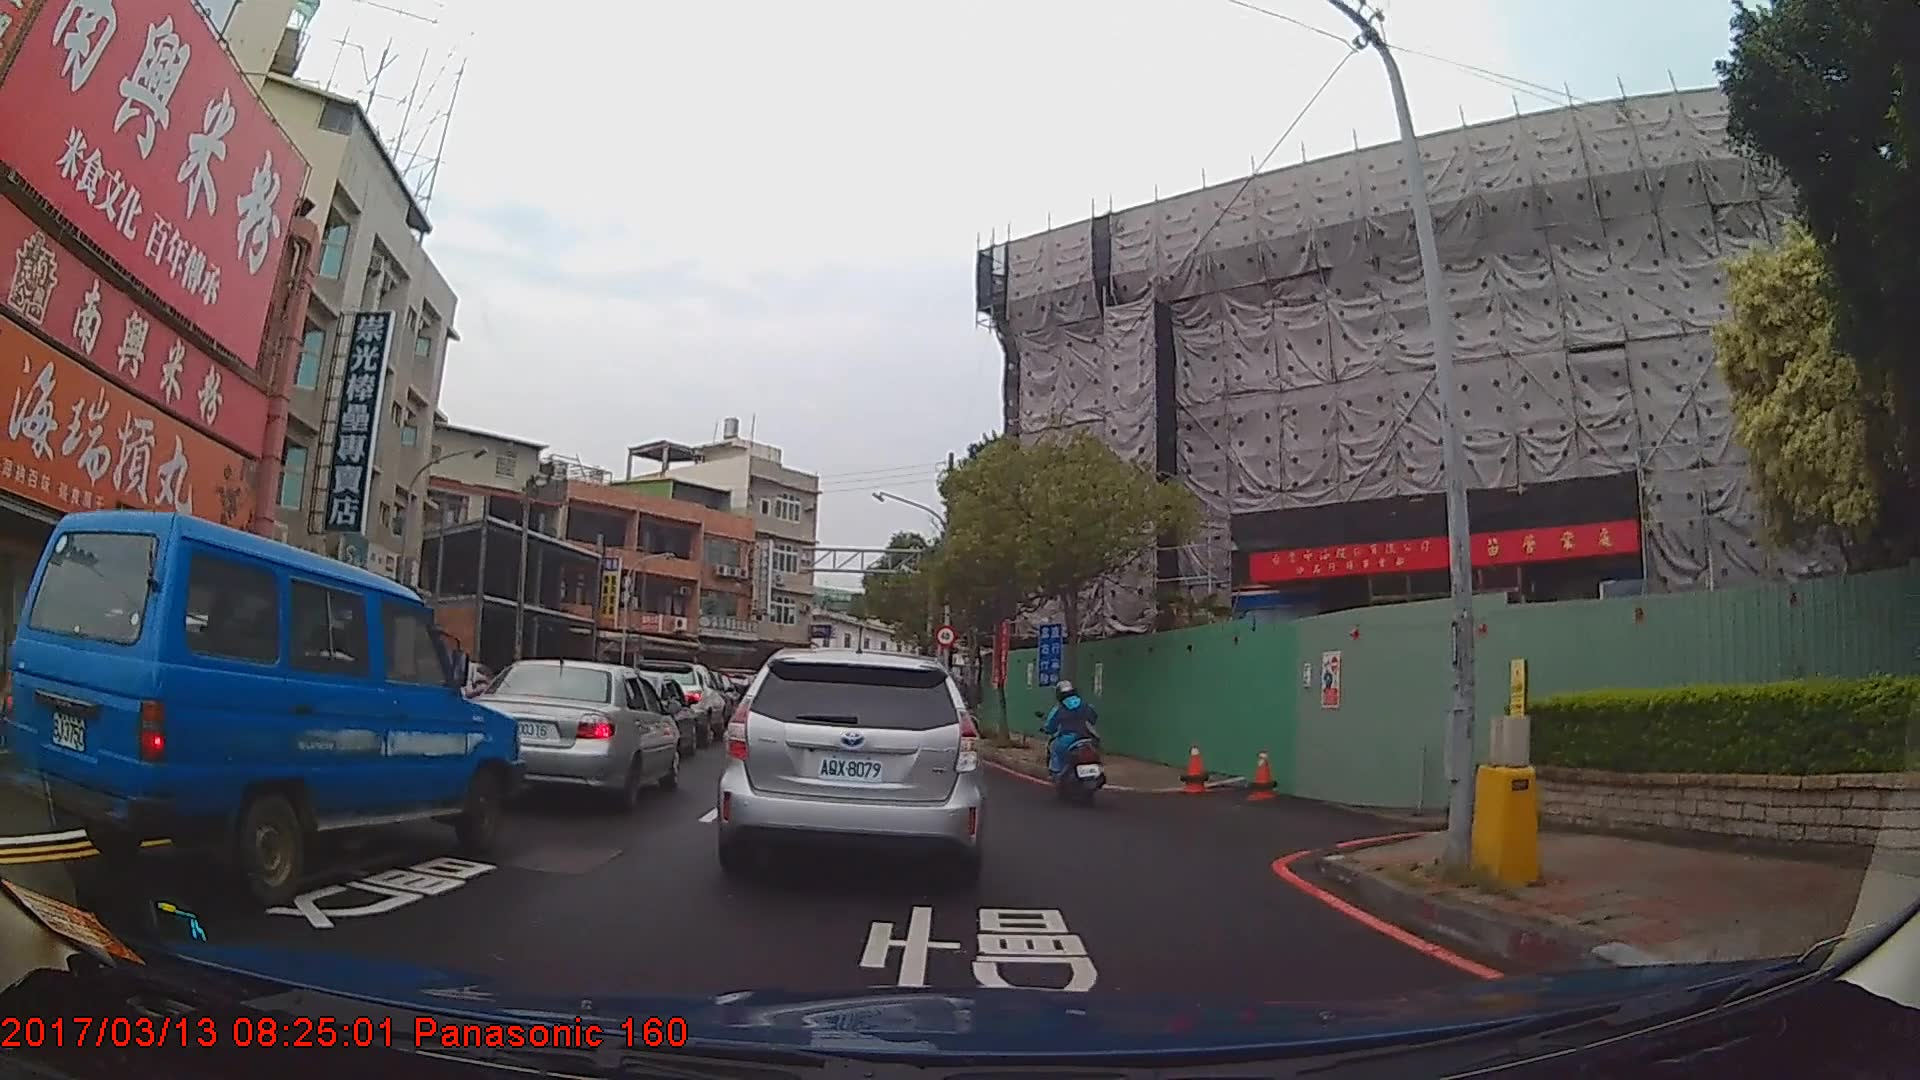rider: (1049, 685, 1105, 810)
vehicle: (0, 509, 526, 899), (717, 646, 995, 880), (471, 657, 682, 807)
